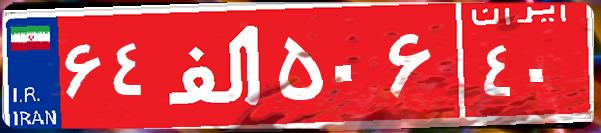0: (330, 28, 385, 110), (525, 38, 570, 115)
4: (475, 38, 525, 113), (110, 28, 158, 105)
5: (273, 28, 330, 110)
6: (385, 28, 445, 110), (57, 26, 110, 107)
الف: (158, 15, 273, 115)
